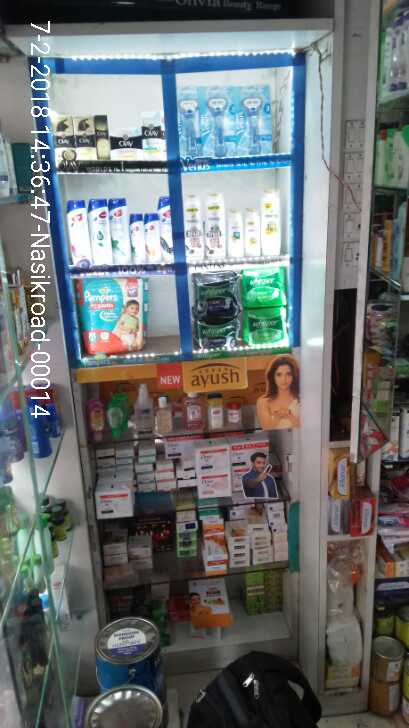venus: (236, 87, 272, 153), (202, 88, 236, 153), (181, 88, 202, 153)
